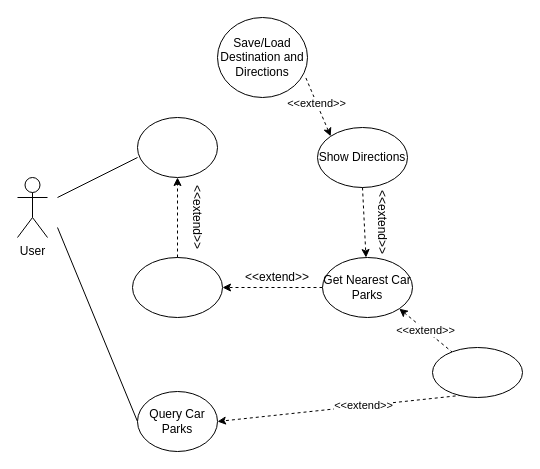
Some shapes in this 540 by 469 pixel diagram are drawn without their labels. Here are the shapes that lost their labels. From the top down, the centre of each, then its label:
the point at 177,147: View Map
the point at 177,287: Set Destination
the point at 477,372: Rate carpark
